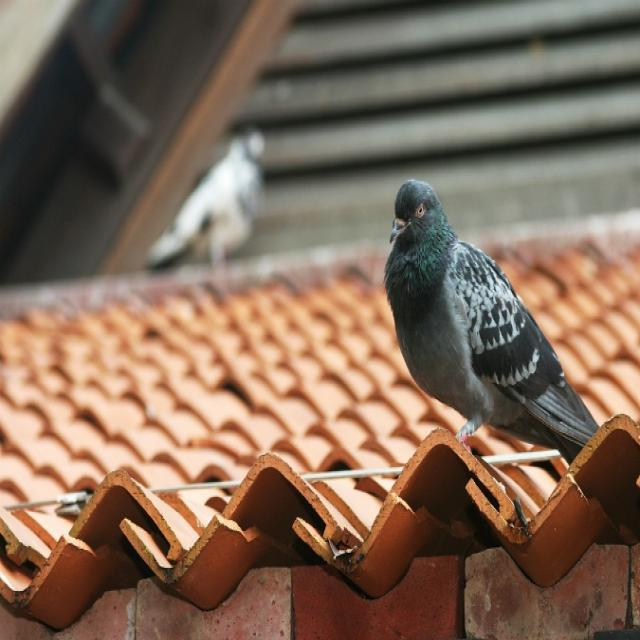bird: (384, 179, 602, 468), (146, 126, 266, 271)
